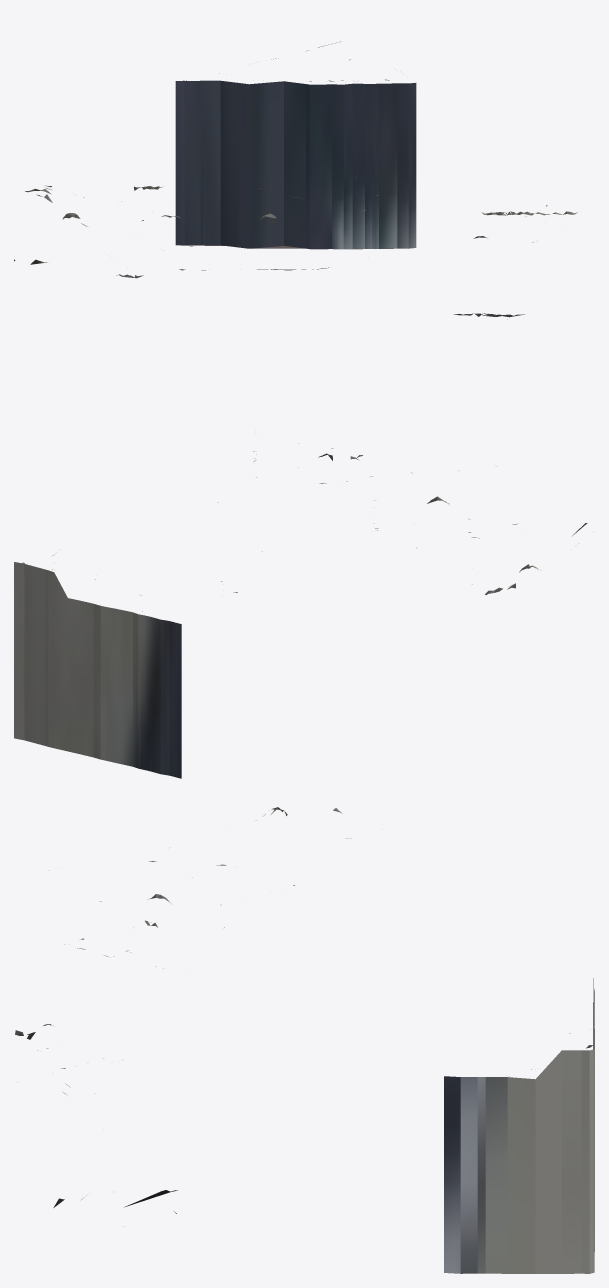
File: test-walls__v3-murs-ortho.glb
The picture shows the model from 3 angles, top to bottom: view 1: azimuth 30°, elevation 25°; view 2: azimuth 150°, elevation 25°; view 3: azimuth 270°, elevation 25°; orthographic projection. The views are drawn at different scales.
Visible parts, largest first — view 1: murs, toit; view 2: murs; view 3: murs.
Part boxes in pixels (x1,y1,x2,y2): murs: (175, 80, 416, 249); toit: (14, 41, 577, 319); murs: (14, 562, 181, 778); murs: (444, 978, 594, 1273).
Bounding box in the file's own units: 30 × 14.26 × 30.
Materials: 2 (2 with a texture image).
